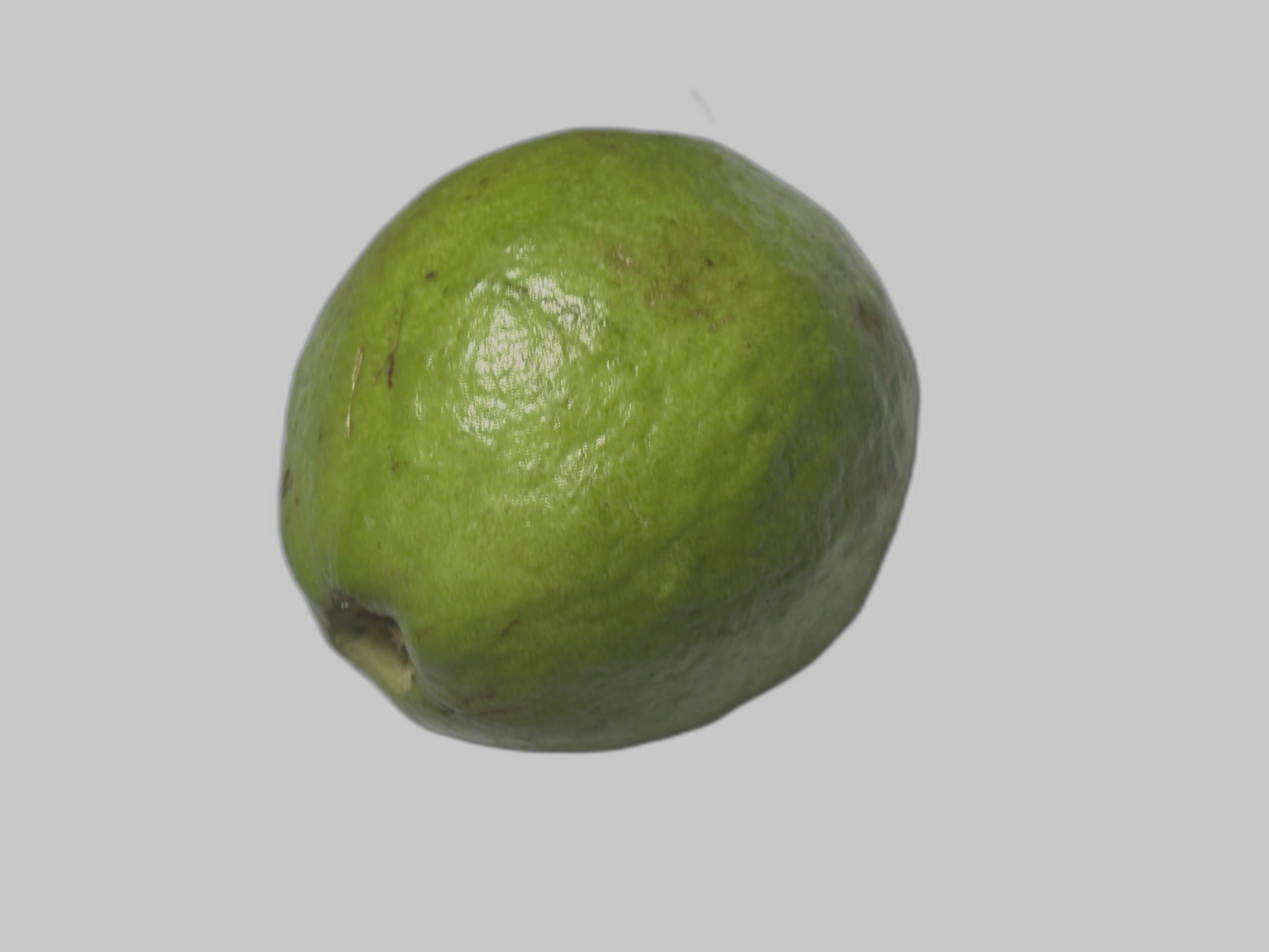guava: (42, 57, 989, 798)
